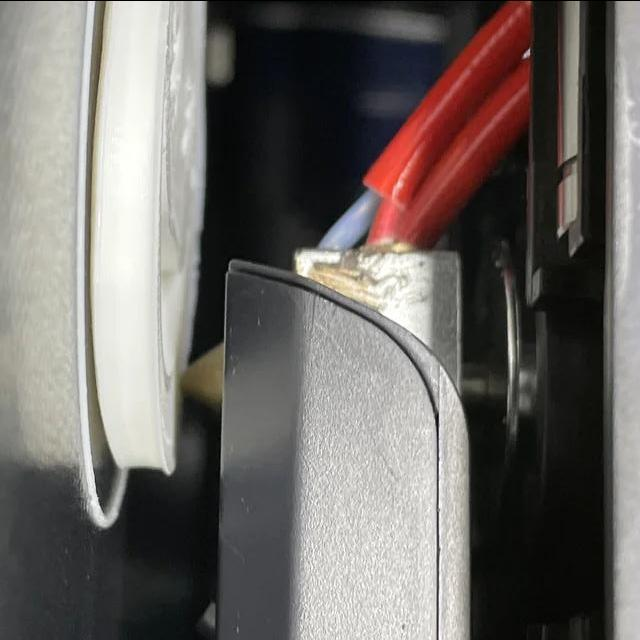Warping: (96, 402, 130, 478)
